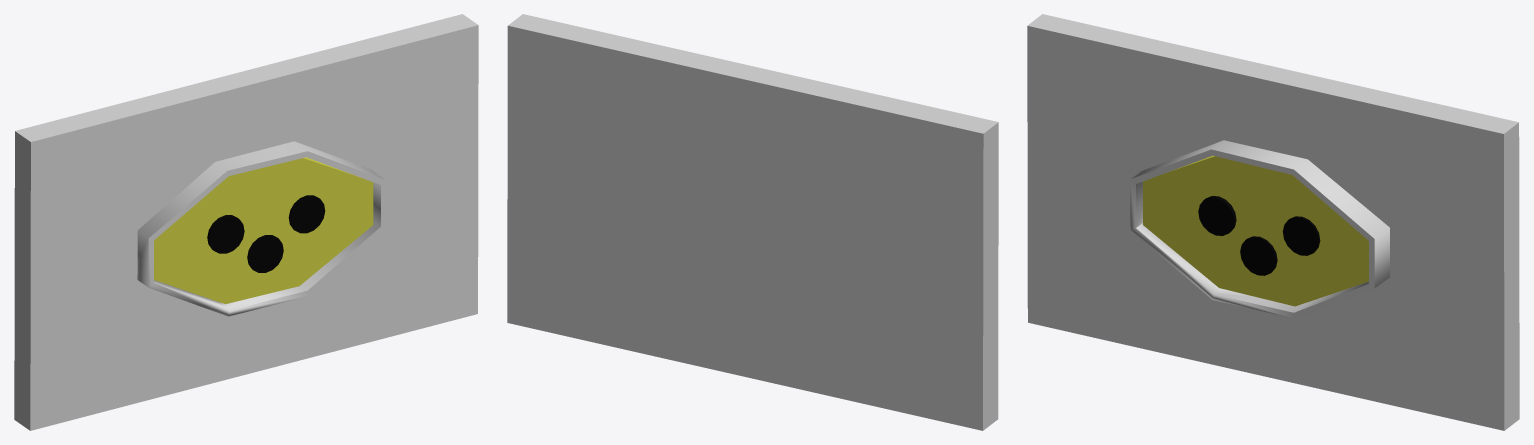
The model's file is Tomada.FBX.
3 renders of one model, left to right at view 1: azimuth 30°, elevation 25°; view 2: azimuth 150°, elevation 25°; view 3: azimuth 330°, elevation 25°, orthographic. The views are drawn at different scales.
Visible parts, largest first — view 1: Regular Pl, octotoad1, octotoad1_, Cylinder5, Cylinder56, Cylinder57; view 2: Regular Pl; view 3: Regular Pl, octotoad1, octotoad1_, Cylinder5, Cylinder57, Cylinder56.
Part boxes in pixels (x1,y1,x2,y2): Regular Pl: (14, 14, 478, 430); octotoad1: (154, 157, 373, 304); octotoad1_: (137, 141, 386, 316); Cylinder5: (207, 215, 244, 253); Cylinder56: (288, 195, 325, 233); Cylinder57: (247, 235, 283, 272); Regular Pl: (507, 14, 998, 430); Regular Pl: (1027, 14, 1519, 430); octotoad1: (1143, 155, 1368, 306); octotoad1_: (1130, 140, 1389, 318); Cylinder5: (1198, 196, 1236, 235); Cylinder57: (1240, 236, 1277, 275); Cylinder56: (1282, 216, 1320, 255).
Size of the model in its own units: 31.26 by 18.94 by 3.87.
